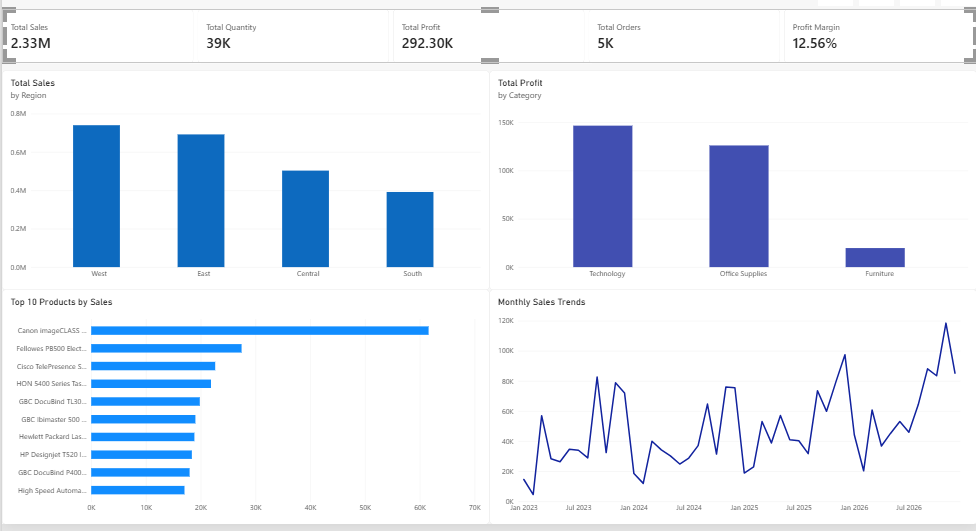

The page's visual inventory and layout, read from the dashboard file:
{"tool":"powerbi","page":{"name":"Page 1","canvas":[1920,1080],"ordinal":0},"visuals":[{"type":"cardVisual","fields":{"Data":["SalesOrders.Total Sales","SalesOrders.Total Quantity","SalesOrders.Total Profit","SalesOrders.Total Orders","SalesOrders.Profit Margin"]},"box":[0,77.5,1920,107.5],"z":0},{"type":"clusteredColumnChart","fields":{"Category":["SalesOrders.Region"],"Y":["SalesOrders.Total Sales"]},"box":[0,185,960,432.5],"z":1000},{"type":"clusteredColumnChart","fields":{"Category":["SalesOrders.Category"],"Y":["SalesOrders.Total Profit"]},"box":[960,185,960,432.5],"z":2000},{"type":"lineChart","title":"Monthly Sales Trends","fields":{"Category":["SalesOrders.Month Start"],"Y":["SalesOrders.Total Sales"]},"box":[960,617.5,960,462.5],"z":3000},{"type":"clusteredBarChart","title":"Top 10 Products by Sales","fields":{"Category":["SalesOrders.Product Name"],"Y":["SalesOrders.Total Sales"]},"box":[0,617.5,960,462.5],"z":4000},{"type":"textbox","box":[100,100,300,300],"z":4001},{"type":"textbox","box":[100,100,300,300],"z":4002},{"type":"textbox","box":[36.7,130,1650,80],"z":4003},{"type":"textbox","box":[100,100,300,300],"z":4004}]}

Visuals, with their boxes on the page's 1920x1080 design canvas (x1, y1, x2, y2). These are canvas units, not pixel positions in the 976x531 screenshot, which may show the page scaled, cropped or inside an application window:
cardVisual - SalesOrders.Total Sales x SalesOrders.Total Quantity: 0 78 1920 185
clusteredColumnChart - SalesOrders.Region x SalesOrders.Total Sales: 0 185 960 618
clusteredColumnChart - SalesOrders.Category x SalesOrders.Total Profit: 960 185 1920 618
"Monthly Sales Trends" lineChart: 960 618 1920 1080
"Top 10 Products by Sales" clusteredBarChart: 0 618 960 1080
textbox: 100 100 400 400
textbox: 100 100 400 400
textbox: 37 130 1687 210
textbox: 100 100 400 400
